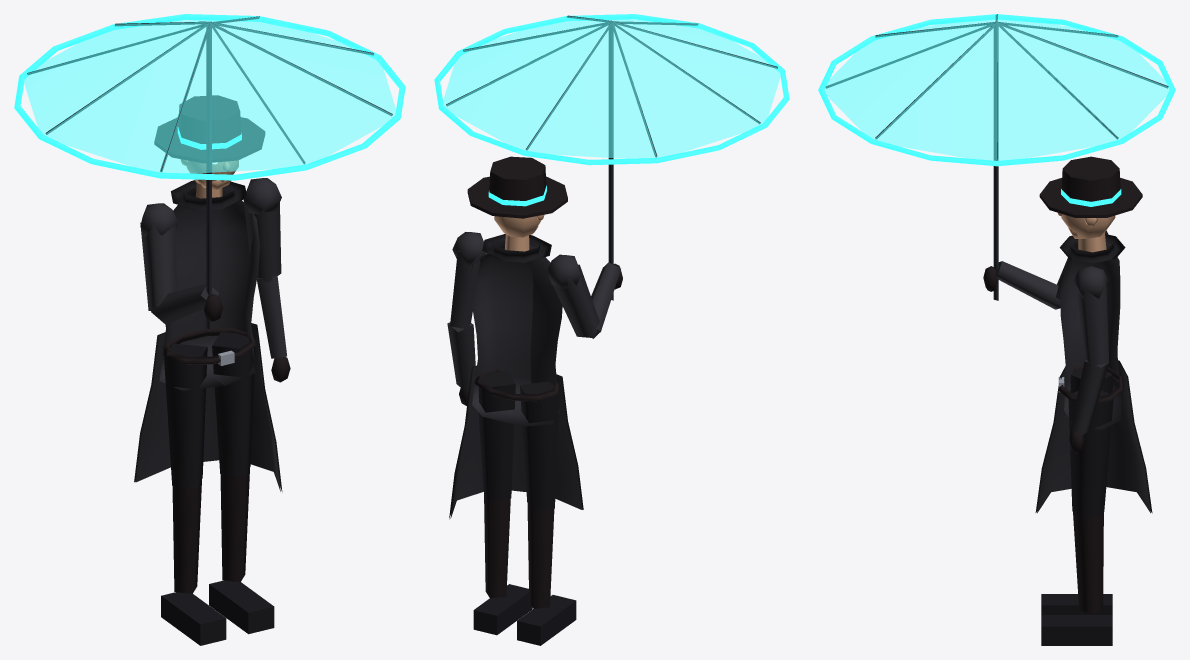
Rendered from person_trench_lo.glb.
3 views of the same model, side by side, from view 1: azimuth 30°, elevation 25°; view 2: azimuth 150°, elevation 25°; view 3: azimuth 270°, elevation 25° (orthographic). The views are drawn at different scales.
Parts seen in each view (by area): view 1: umbrella, cloth_a (×3), leather (×3), cloth_b (×3), neon_cyan, metal_dark, shoe (×2), skin; view 2: umbrella, cloth_a (×3), leather (×3), cloth_b (×3), neon_cyan, metal_dark, shoe (×2), skin; view 3: umbrella, cloth_a (×3), leather (×2), cloth_b (×2), neon_cyan, metal_dark, shoe (×2), skin.
Part boxes in pixels (bbox=[...]): umbrella: bbox=[21, 16, 398, 175]; cloth_a (×3): bbox=[135, 178, 286, 491]; leather (×3): bbox=[154, 95, 265, 594]; cloth_b (×3): bbox=[134, 180, 282, 491]; neon_cyan: bbox=[14, 14, 405, 180]; metal_dark: bbox=[27, 16, 392, 329]; shoe (×2): bbox=[161, 580, 274, 645]; skin: bbox=[180, 159, 238, 198]; umbrella: bbox=[441, 16, 782, 160]; cloth_a (×3): bbox=[447, 232, 620, 518]; leather (×3): bbox=[467, 156, 567, 608]; cloth_b (×3): bbox=[449, 234, 583, 519]; neon_cyan: bbox=[434, 14, 789, 165]; metal_dark: bbox=[446, 15, 777, 300]; shoe (×2): bbox=[473, 584, 576, 645]; skin: bbox=[494, 215, 544, 251]; umbrella: bbox=[820, 14, 1173, 163]; cloth_a (×3): bbox=[995, 230, 1150, 513]; leather (×2): bbox=[1039, 156, 1142, 614]; cloth_b (×2): bbox=[1035, 234, 1152, 518]; neon_cyan: bbox=[818, 14, 1175, 166]; metal_dark: bbox=[825, 14, 1168, 300]; shoe (×2): bbox=[1041, 594, 1112, 645]; skin: bbox=[1057, 213, 1115, 252].
Bounding box in the file's own units: 1.25 × 2.26 × 1.25.
